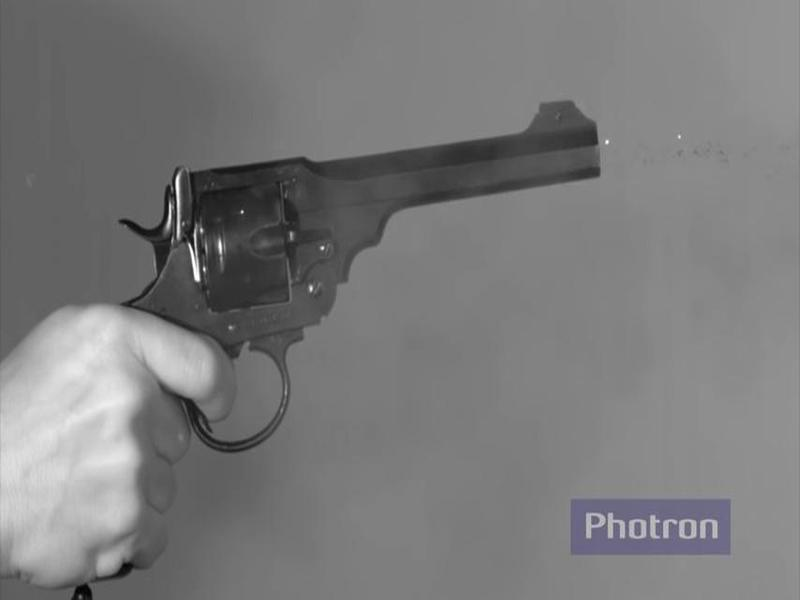Revolver: (106, 89, 620, 458)
